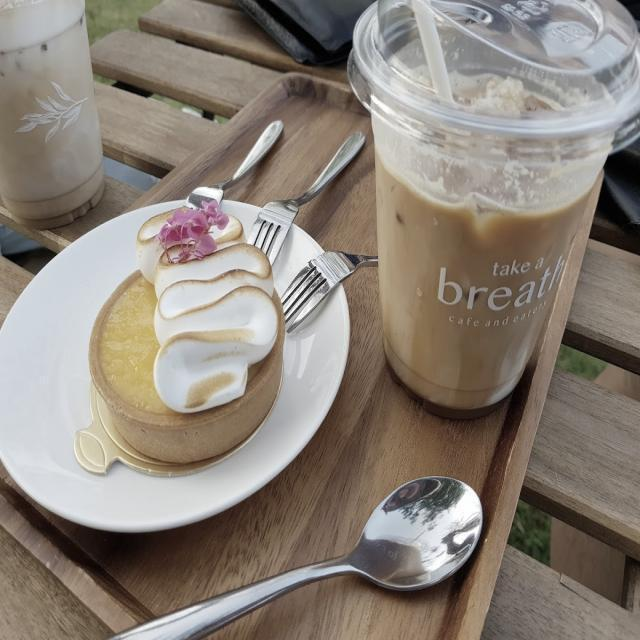cup: (337, 0, 639, 412)
